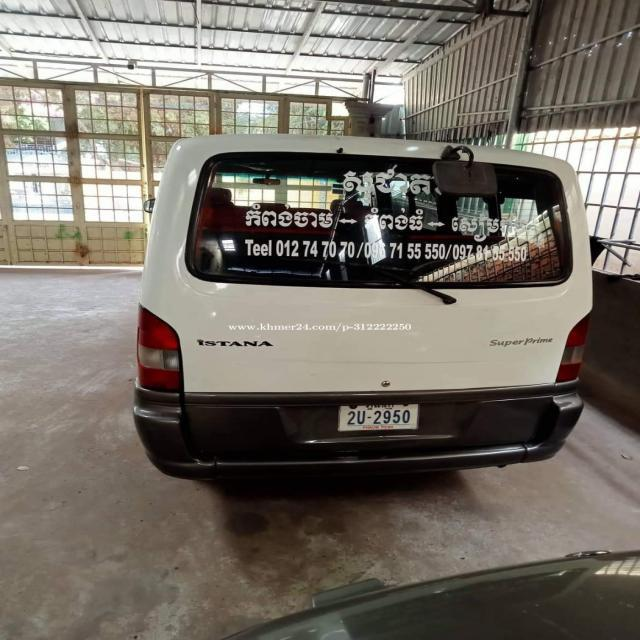Phnom_Penh: (367, 403, 398, 411)
